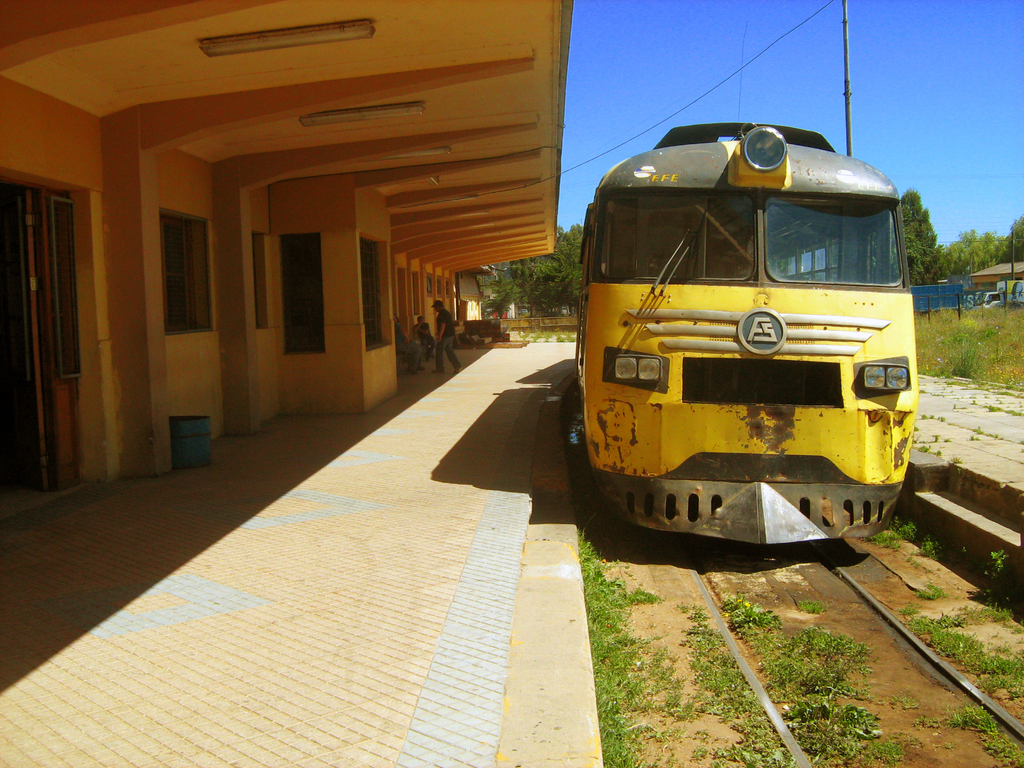train: (569, 114, 925, 544)
